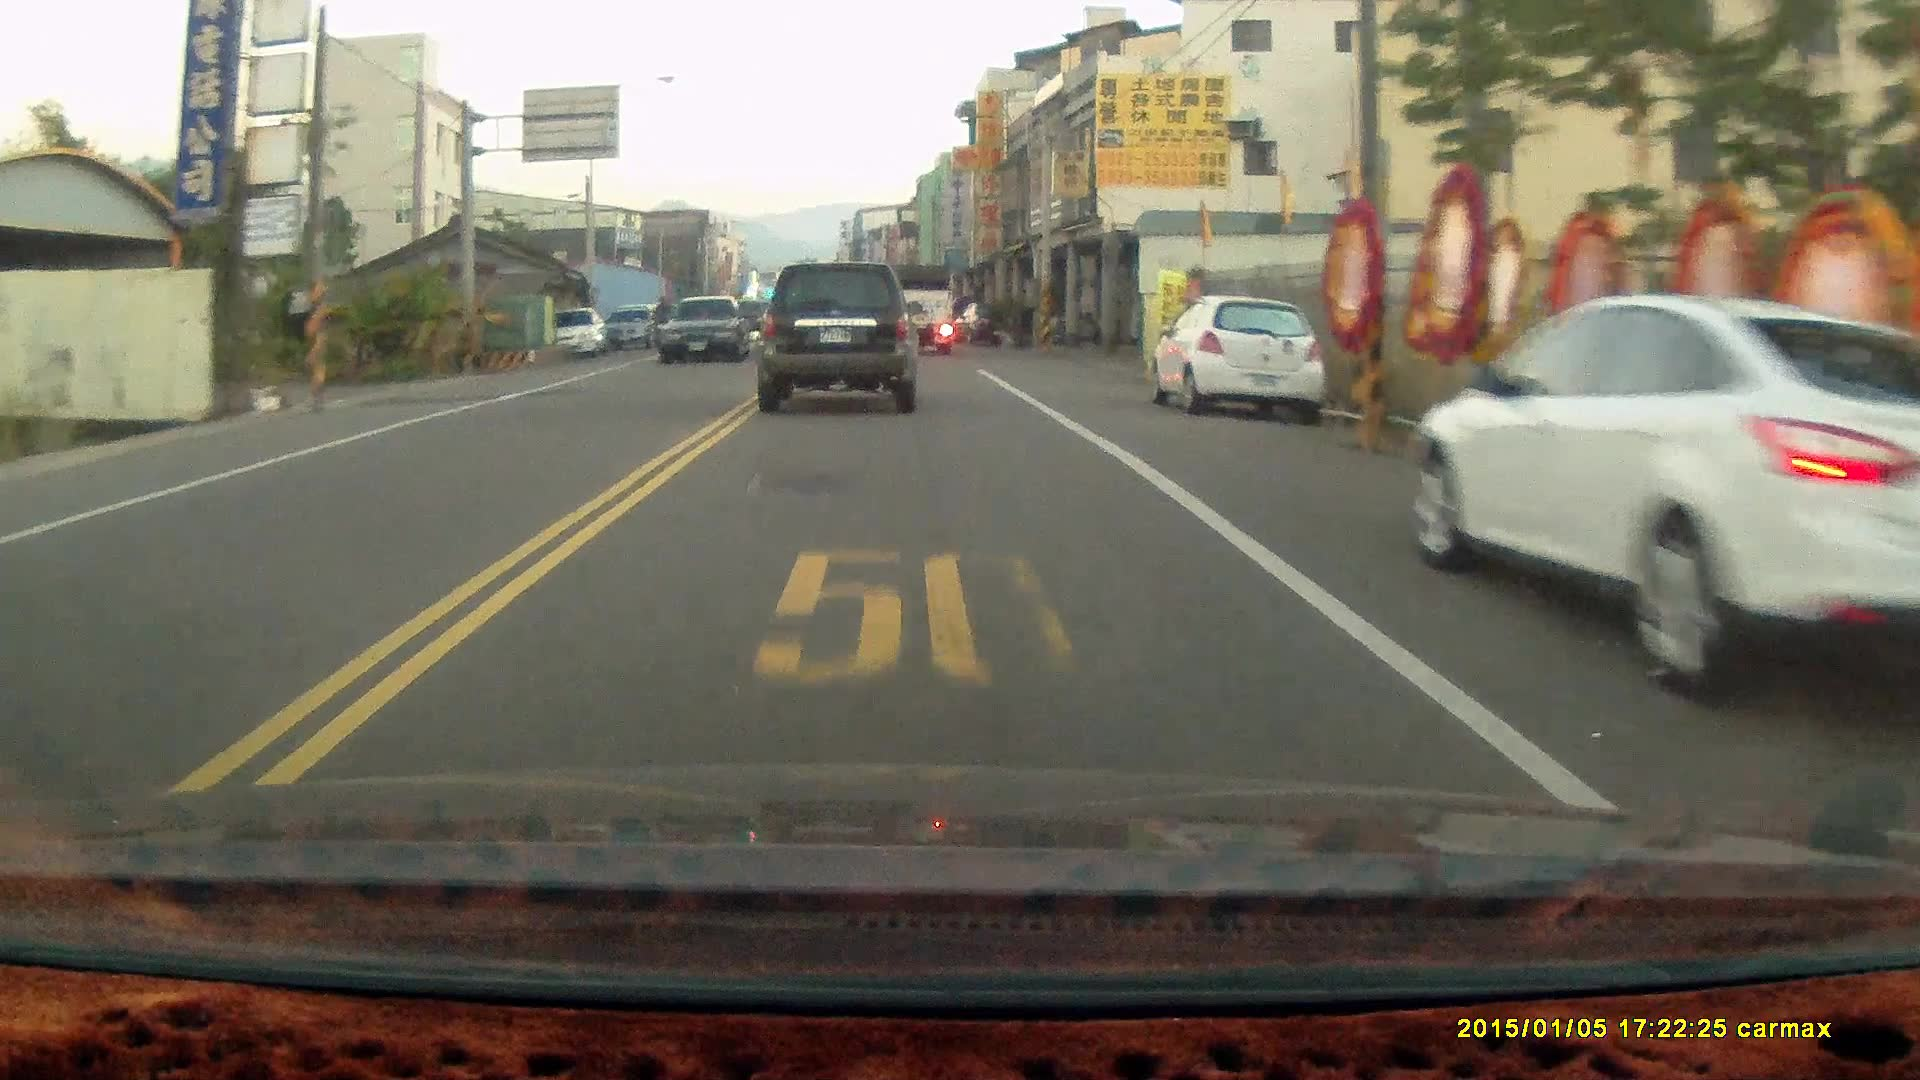vehicle: (1406, 290, 1917, 713), (752, 258, 920, 409), (1153, 295, 1323, 426), (657, 294, 756, 368), (884, 260, 959, 355), (533, 306, 611, 357)
